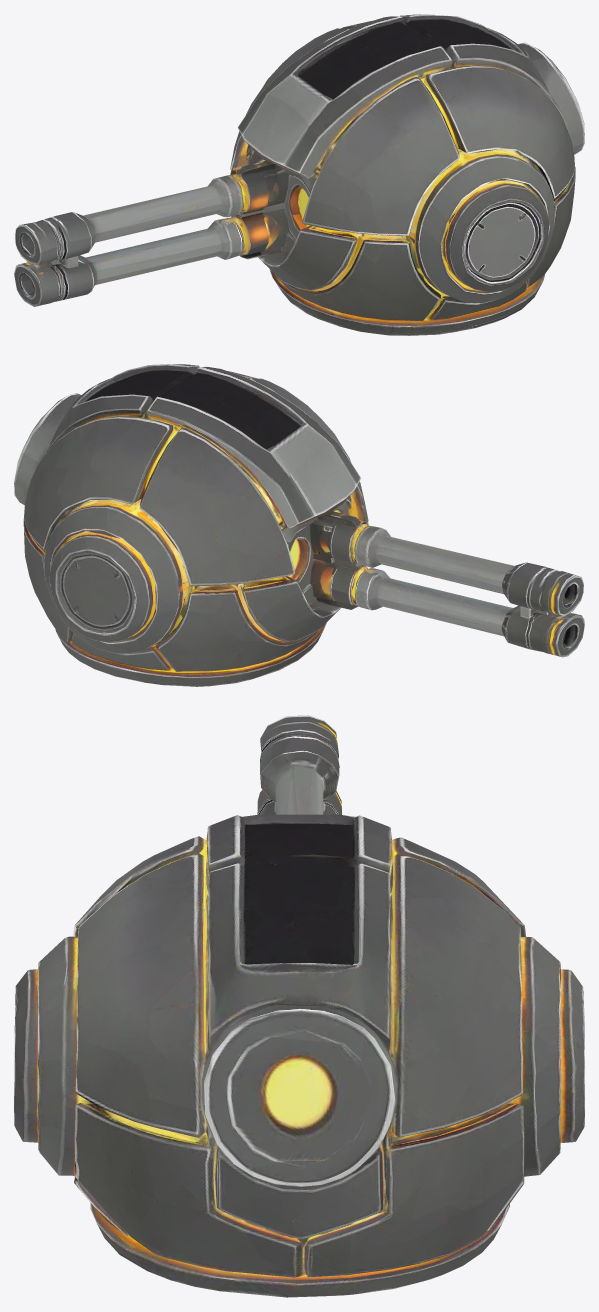
The model's file is turret_head.glb.
3 views of the same model, one above another, from view 1: azimuth 30°, elevation 25°; view 2: azimuth 150°, elevation 25°; view 3: azimuth 270°, elevation 25° (orthographic). The views are drawn at different scales.
Visible parts, largest first — view 1: Mesh_0; view 2: Mesh_0; view 3: Mesh_0.
Boxes of the visible parts, <box> form: Mesh_0: <box>14,14,584,335</box>; Mesh_0: <box>14,364,584,686</box>; Mesh_0: <box>14,715,584,1297</box>.
Bounding box in the file's own units: 1.9 × 0.8657 × 1.15.
Materials: 1 (1 with a texture image).
